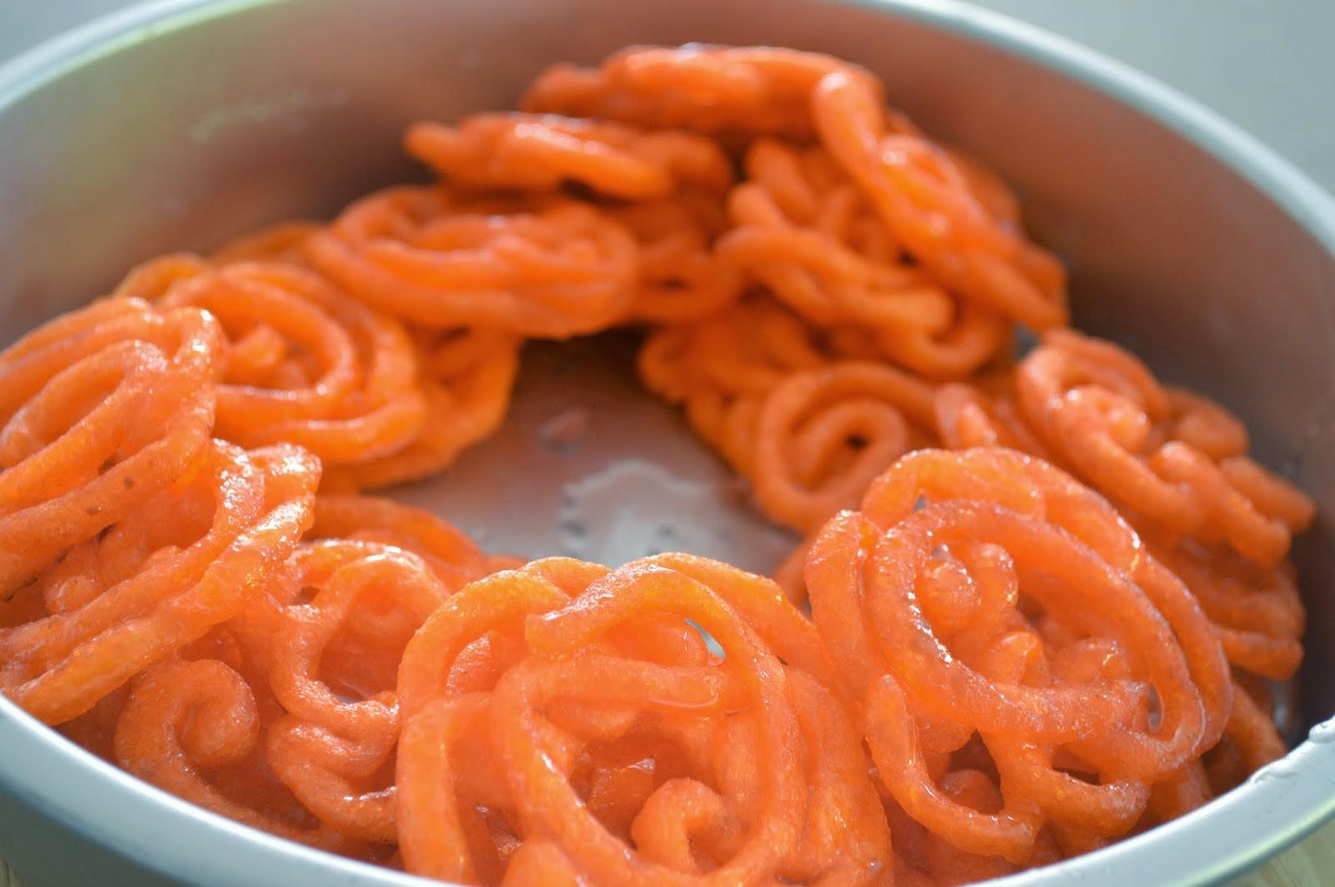Jalebi: (0, 40, 1335, 887)
